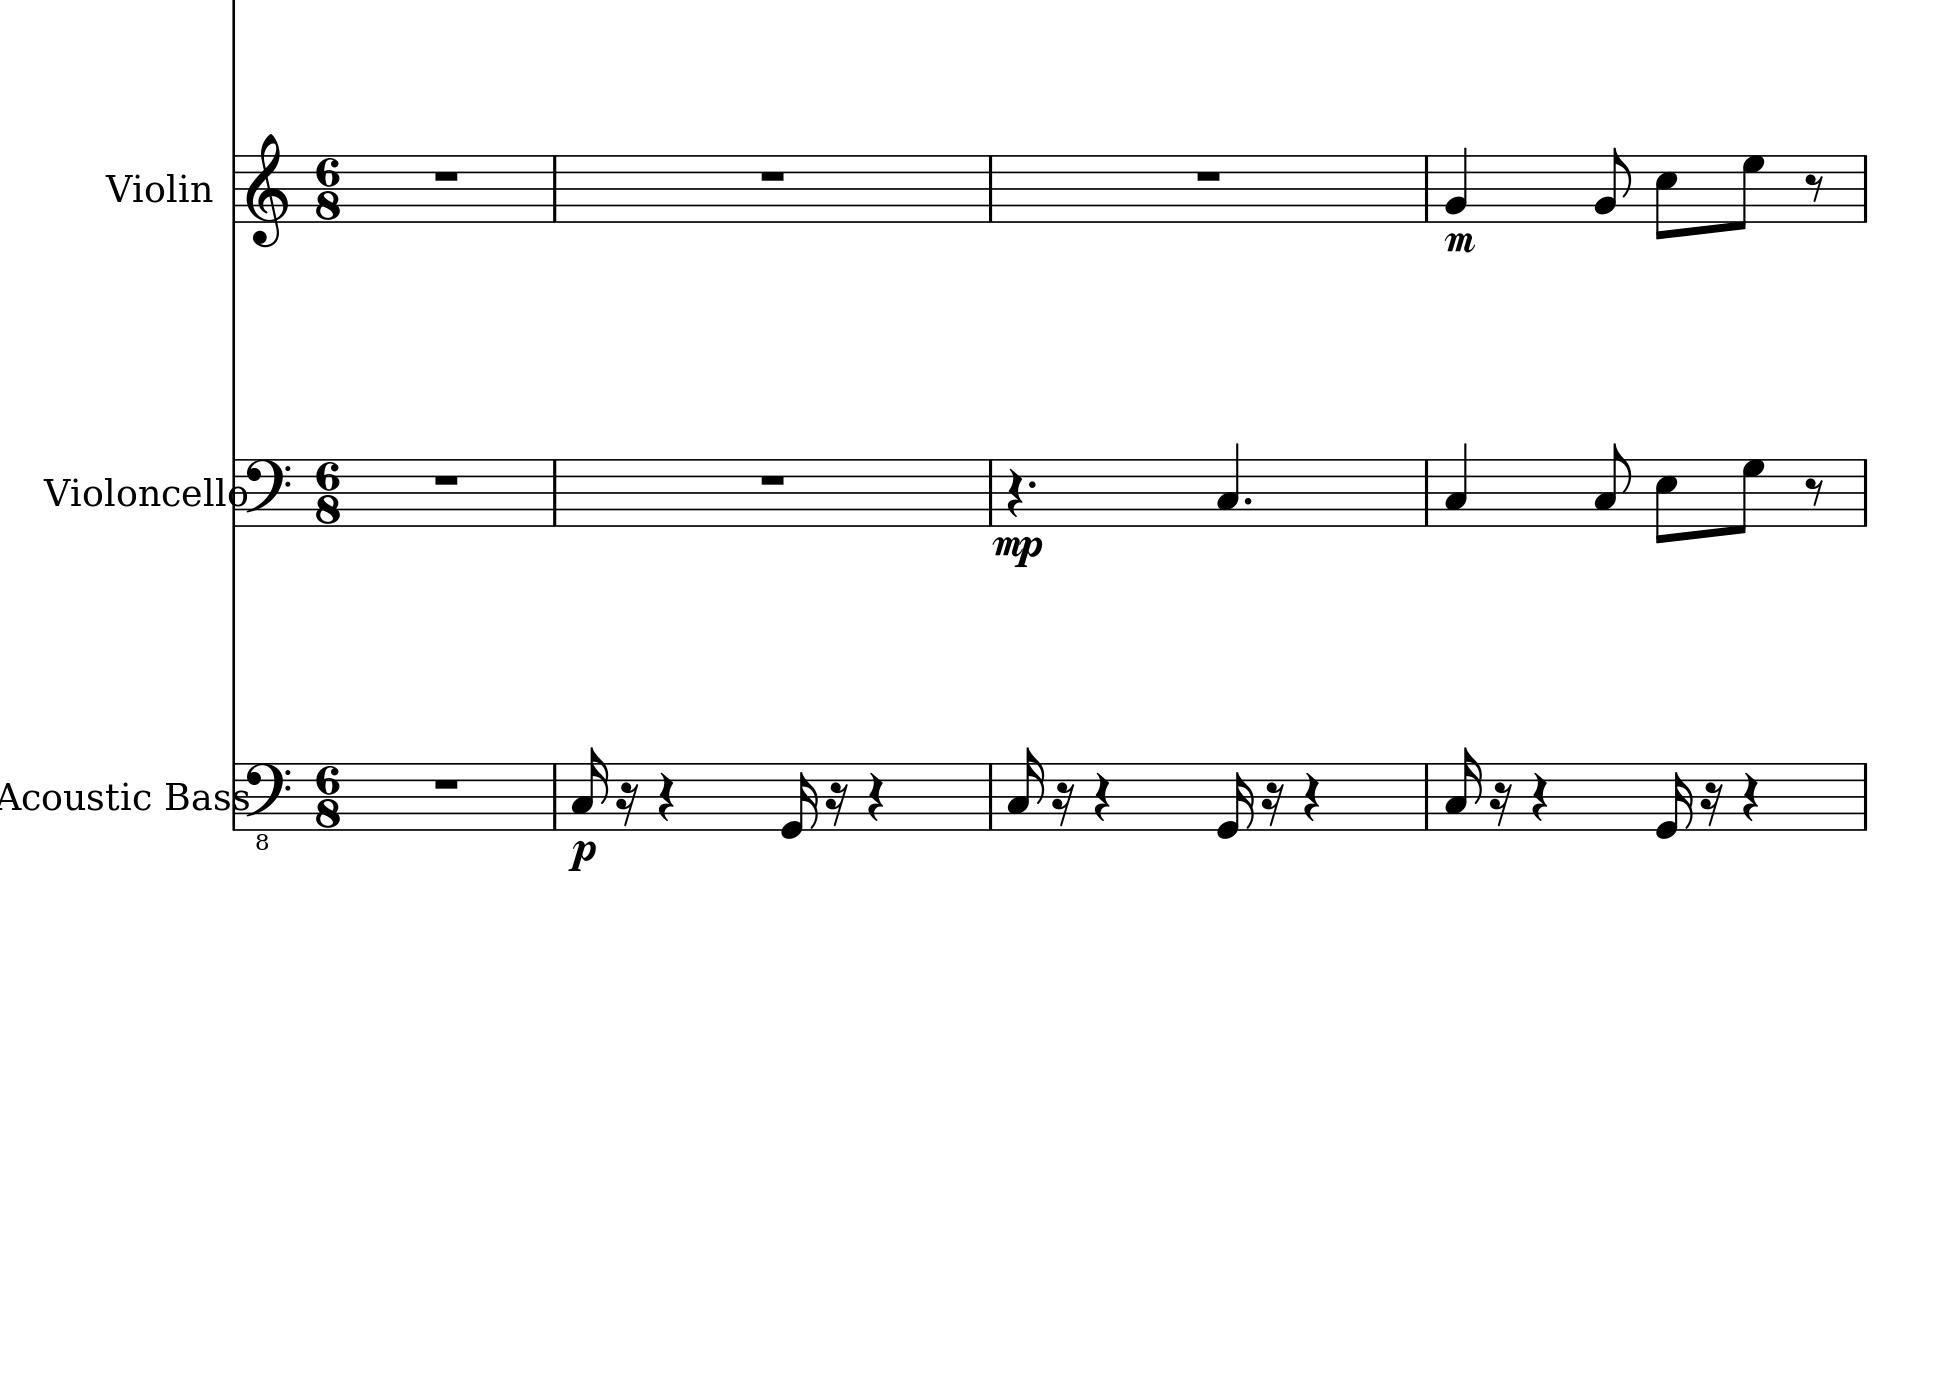16_0: (778, 760, 817, 841), (1215, 762, 1254, 840), (1654, 762, 1693, 840)
16_3: (1006, 745, 1045, 832), (570, 744, 609, 829), (1443, 745, 1482, 831)
4_2: (1446, 145, 1470, 223)
4_3: (1443, 441, 1470, 528), (1216, 439, 1242, 528)
6: (313, 457, 342, 493), (313, 762, 342, 796), (313, 153, 340, 187)
8: (313, 187, 342, 222), (313, 492, 342, 526), (313, 795, 342, 829)
8_2: (1594, 145, 1632, 223)
8_3: (1593, 441, 1632, 528)
8_5: (1653, 151, 1678, 241), (1653, 456, 1678, 544)
8_7: (1731, 153, 1767, 232), (1731, 457, 1767, 535)
Bass: (163, 778, 244, 814)
Fclef: (243, 456, 292, 526)
Gclef: (244, 130, 289, 249)
Lower_Fclef: (244, 760, 291, 850)
Rests1: (430, 469, 462, 489), (757, 469, 789, 489), (430, 166, 462, 184), (1192, 166, 1224, 184), (757, 166, 787, 184), (430, 775, 462, 792)
Rests16: (615, 780, 640, 826), (1051, 780, 1075, 828), (1489, 780, 1513, 828), (825, 780, 849, 826), (1261, 780, 1285, 826), (1701, 780, 1723, 826)
Rests4: (1092, 769, 1113, 823), (1530, 769, 1551, 823), (655, 769, 676, 822), (865, 771, 886, 823), (1302, 771, 1323, 823), (1740, 771, 1761, 822), (1005, 466, 1024, 517)
Rests8: (1803, 171, 1827, 204), (1803, 475, 1827, 508)
Single_barline: (226, 457, 246, 526), (226, 762, 244, 831), (1857, 154, 1875, 222), (1419, 459, 1437, 525), (1857, 459, 1875, 525), (1857, 763, 1875, 829), (226, 154, 243, 222), (546, 154, 562, 220), (982, 154, 999, 220), (982, 763, 999, 829), (1419, 763, 1435, 829), (547, 459, 562, 525), (984, 459, 999, 525), (547, 763, 562, 829), (1419, 156, 1434, 220)
TimeSig: (313, 154, 343, 223), (313, 457, 343, 526), (313, 762, 342, 832)
Vln: (103, 168, 208, 208)
dot: (1242, 493, 1254, 505), (1027, 478, 1038, 490)
m: (1443, 231, 1479, 256)
mp: (990, 532, 1045, 570)
p: (565, 838, 598, 877)
